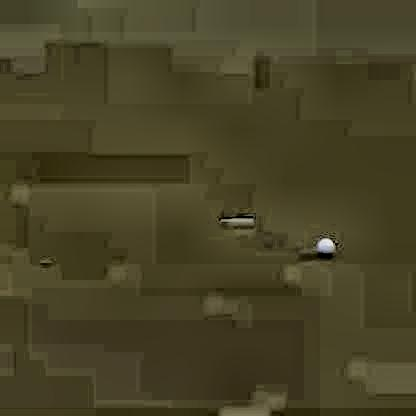golfball: (315, 235, 333, 254)
